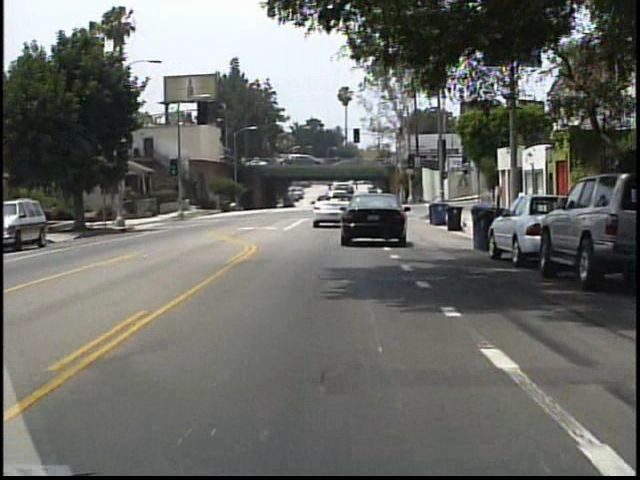person: (49, 200, 65, 233)
